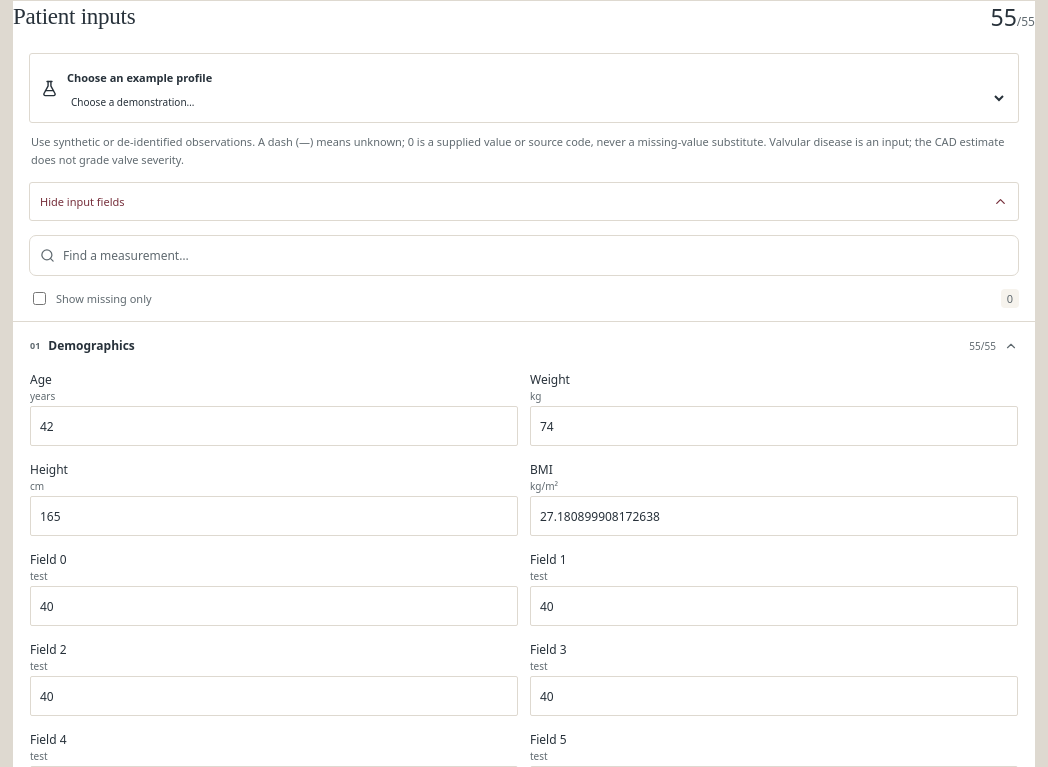
counts BMI derived from weight and height as an available model input
Clear the number field labelled "BMI" at point(774, 516), box [530,496,1018,536]
(page scrolled)
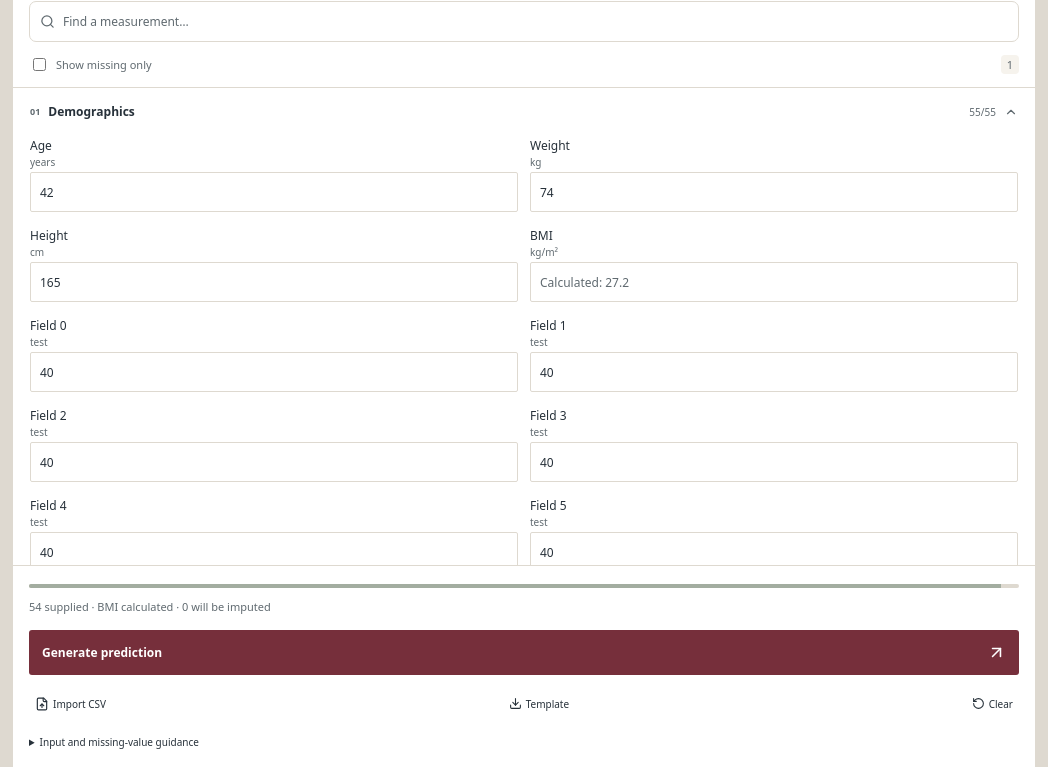
Check: the button "Generate prediction" is enabled, box [29,630,1019,675]
Check: the text "54 supplied · BMI calculated · 0 will be imputed" is shown, box [29,599,271,614]
